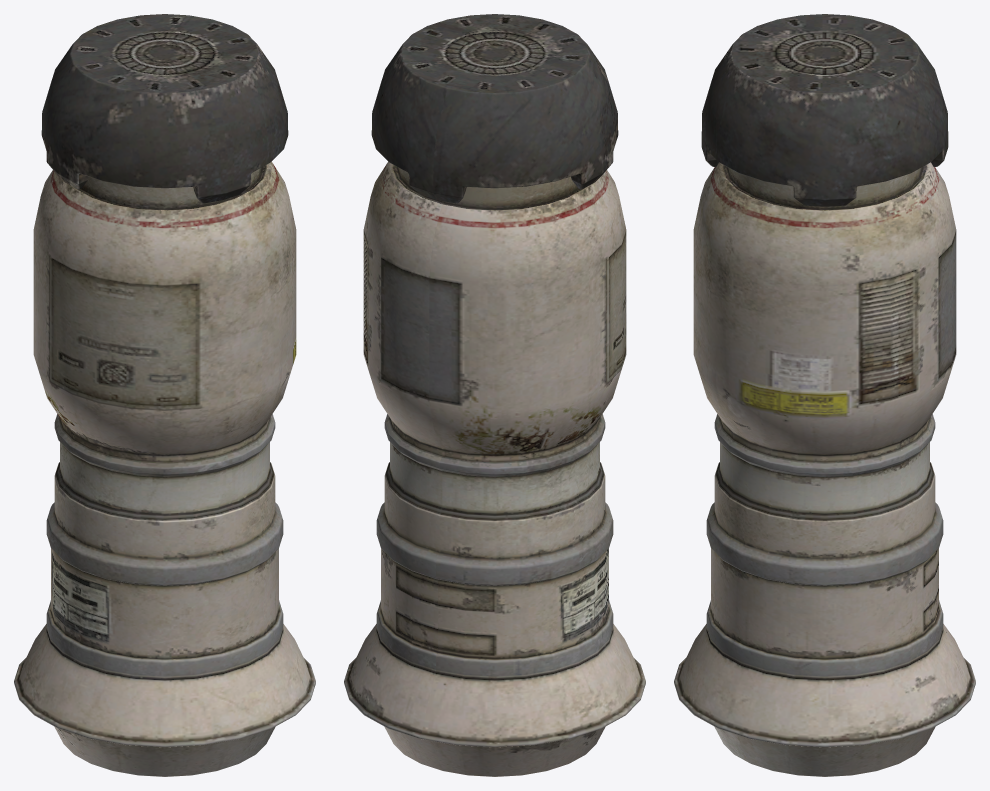
Rendered from prop_capsule.glb.
3 views of the same model, side by side, from view 1: azimuth 30°, elevation 25°; view 2: azimuth 150°, elevation 25°; view 3: azimuth 270°, elevation 25° (orthographic).
Parts seen in each view (by area): view 1: prop_capsule; view 2: prop_capsule; view 3: prop_capsule.
Boxes of the visible parts, x1,y1,x2,y2 form: prop_capsule: [14, 14, 315, 776]; prop_capsule: [344, 14, 645, 776]; prop_capsule: [674, 14, 975, 776].
Bounding box in the file's own units: 0.5109 × 1.27 × 0.5109.
1 material, 1 textured.
